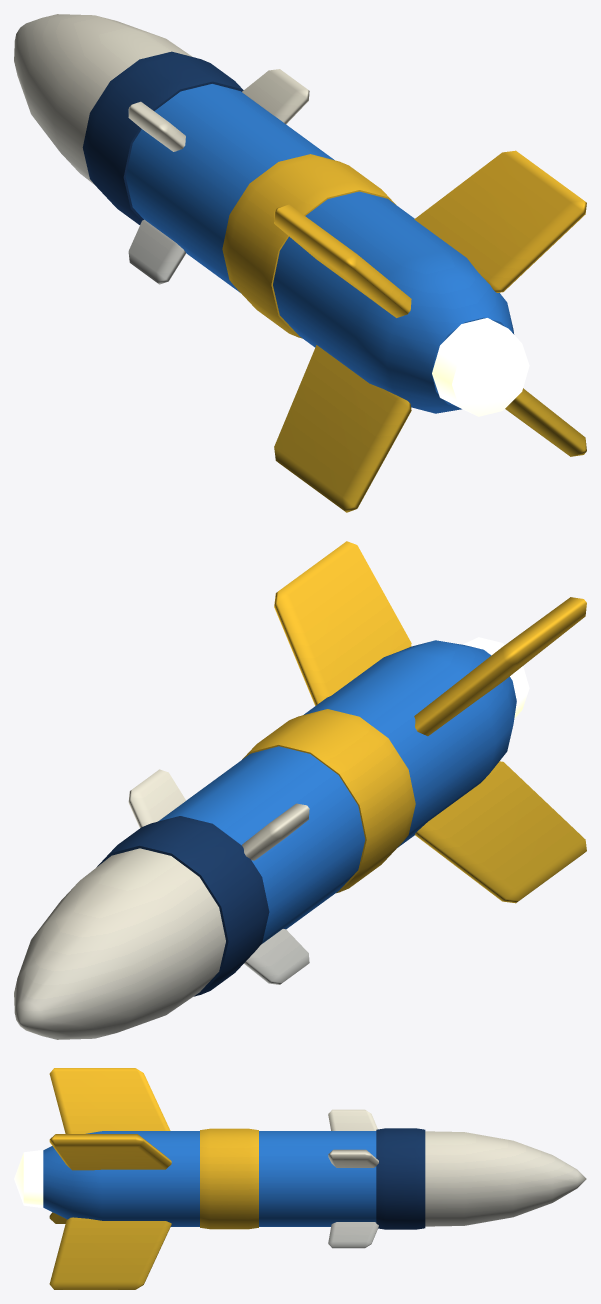
The model's file is missile-friendly.glb.
3 views of the same model, one above another, from view 1: azimuth 30°, elevation 25°; view 2: azimuth 150°, elevation 25°; view 3: azimuth 270°, elevation 25° (orthographic). The views are drawn at different scales.
Visible parts, largest first — view 1: missile-friendly Kestrel sky, missile-friendly Sunflower, missile-friendly Warm white, missile-friendly Kestrel navy, missile-friendly Lamp glow; view 2: missile-friendly Sunflower, missile-friendly Kestrel sky, missile-friendly Warm white, missile-friendly Kestrel navy, missile-friendly Lamp glow; view 3: missile-friendly Sunflower, missile-friendly Kestrel sky, missile-friendly Warm white, missile-friendly Kestrel navy, missile-friendly Lamp glow.
Part boxes in pixels (<box>): missile-friendly Kestrel sky: <box>125,84,514,413</box>; missile-friendly Sunflower: <box>222,150,586,512</box>; missile-friendly Warm white: <box>14,14,309,284</box>; missile-friendly Kestrel navy: <box>82,51,243,224</box>; missile-friendly Lamp glow: <box>432,318,529,416</box>; missile-friendly Sunflower: <box>242,541,586,903</box>; missile-friendly Kestrel sky: <box>158,640,516,944</box>; missile-friendly Warm white: <box>14,769,309,1039</box>; missile-friendly Kestrel navy: <box>96,816,269,996</box>; missile-friendly Lamp glow: <box>463,637,529,718</box>; missile-friendly Sunflower: <box>49,1068,258,1289</box>; missile-friendly Kestrel sky: <box>43,1131,376,1226</box>; missile-friendly Warm white: <box>328,1109,586,1248</box>; missile-friendly Kestrel navy: <box>376,1128,425,1229</box>; missile-friendly Lamp glow: <box>14,1150,43,1207</box>.
Size of the model in its own units: 0.3437 by 0.3437 by 1.17.
Materials: 5 (4 with a texture image).
